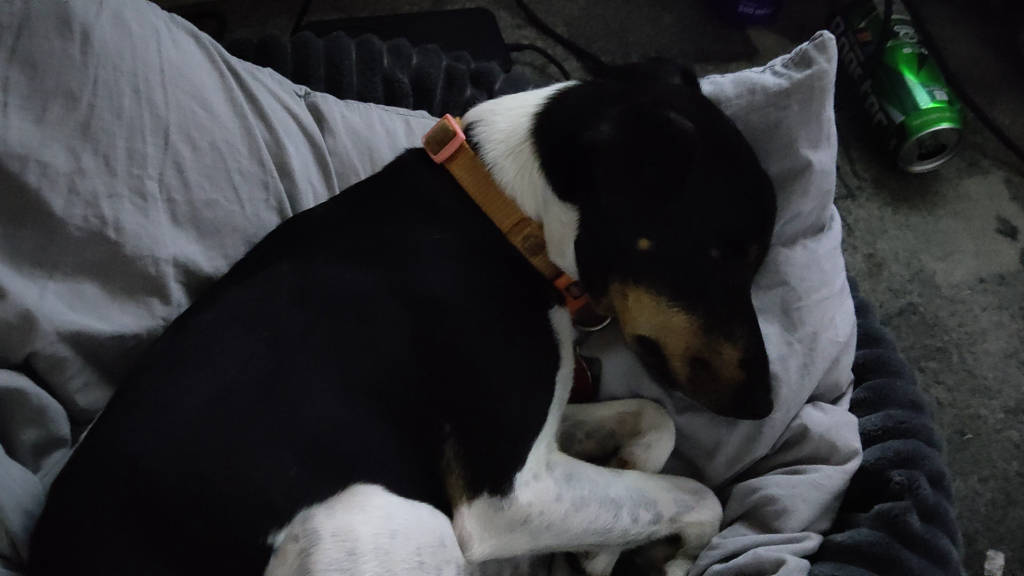Dog: (10, 42, 788, 576)
